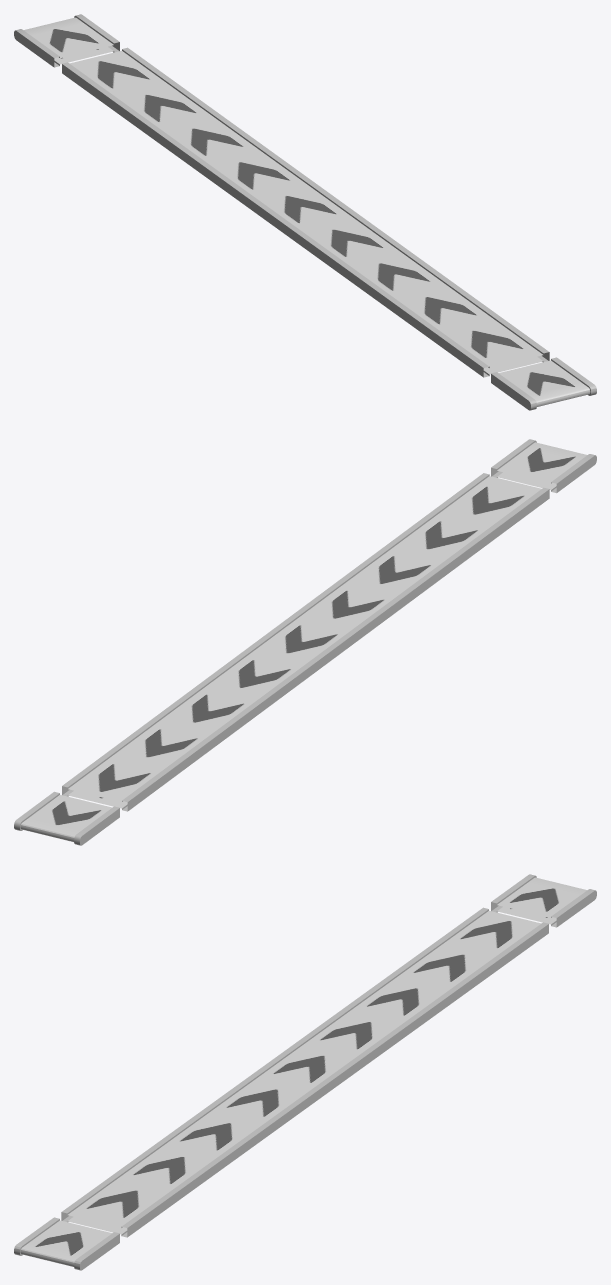
File: bant_test_0.0,5.fbx
3 views of the same model, one above another, from view 1: azimuth 30°, elevation 25°; view 2: azimuth 150°, elevation 25°; view 3: azimuth 330°, elevation 25° (orthographic).
Parts seen in each view (by area): view 1: Cube, Cube.001, Cube.002; view 2: Cube, Cube.002, Cube.001; view 3: Cube, Cube.001, Cube.002.
Part boxes in pixels (<box>): Cube: <box>62,47,549,377</box>; Cube.001: <box>491,357,596,410</box>; Cube.002: <box>14,14,119,67</box>; Cube: <box>62,473,549,811</box>; Cube.002: <box>14,791,119,845</box>; Cube.001: <box>491,439,596,493</box>; Cube: <box>61,907,548,1237</box>; Cube.001: <box>14,1217,119,1270</box>; Cube.002: <box>491,874,596,927</box>.
Bounding box in the file's own units: 3384 × 719 × 45979.
